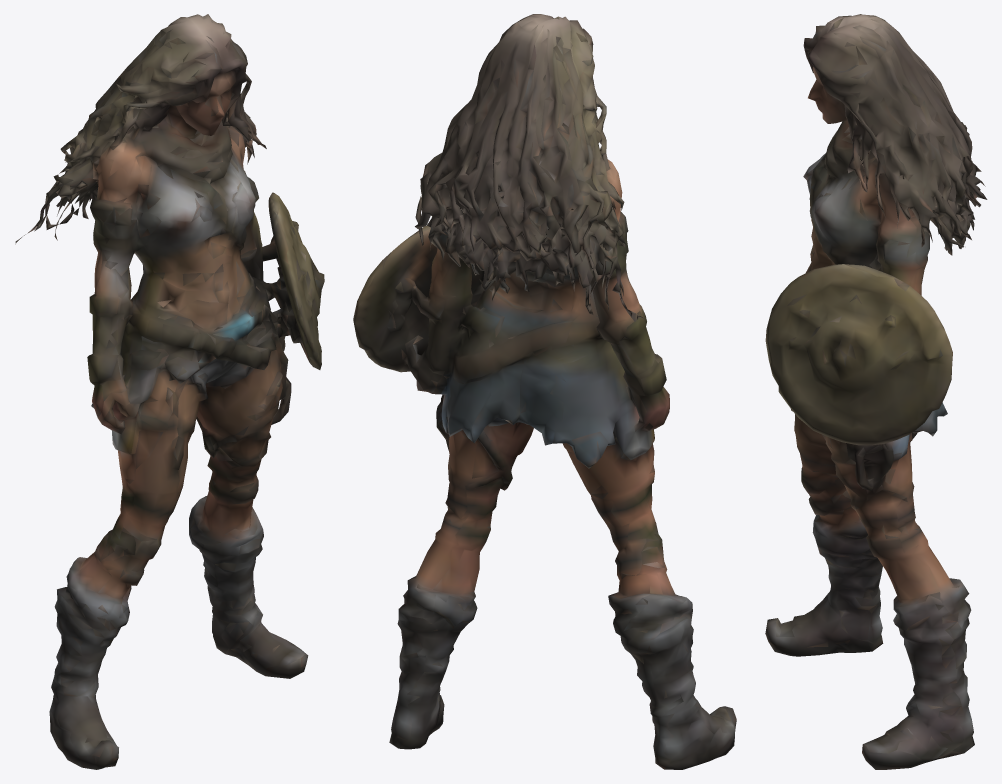
File: Ash (2)_final.glb
3 renders of one model, left to right at view 1: azimuth 30°, elevation 25°; view 2: azimuth 150°, elevation 25°; view 3: azimuth 270°, elevation 25°, orthographic. The views are drawn at different scales.
Parts seen in each view (by area): view 1: Mesh1.0; view 2: Mesh1.0; view 3: Mesh1.0.
Boxes of the visible parts, box(x1,y1,x2,y2) form: Mesh1.0: box(15, 14, 324, 769); Mesh1.0: box(353, 14, 736, 769); Mesh1.0: box(765, 14, 987, 769).
Bounding box in the file's own units: 0.8904 × 2 × 0.5798.
Materials: 1 (1 with a texture image).
